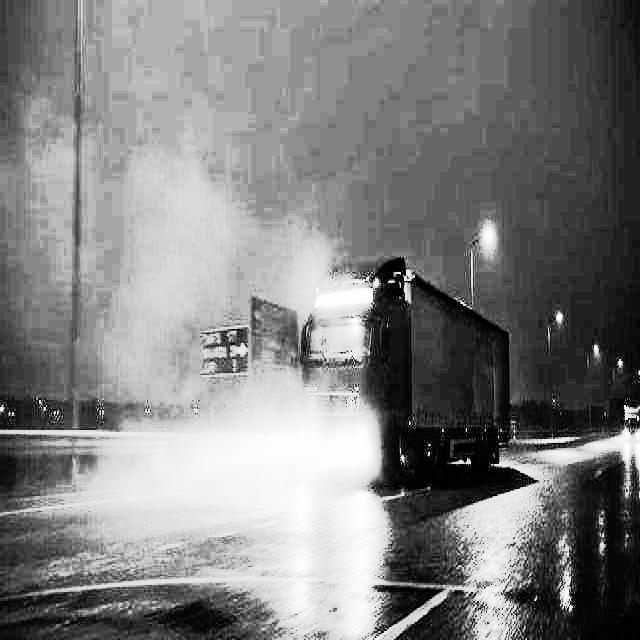Truck: (298, 255, 511, 488)
